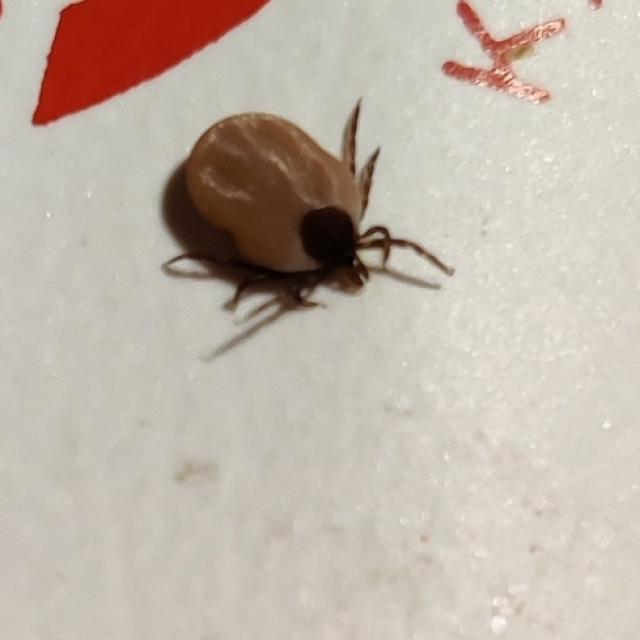Ixodes Ricinus-F-Fed: (161, 104, 455, 311)
